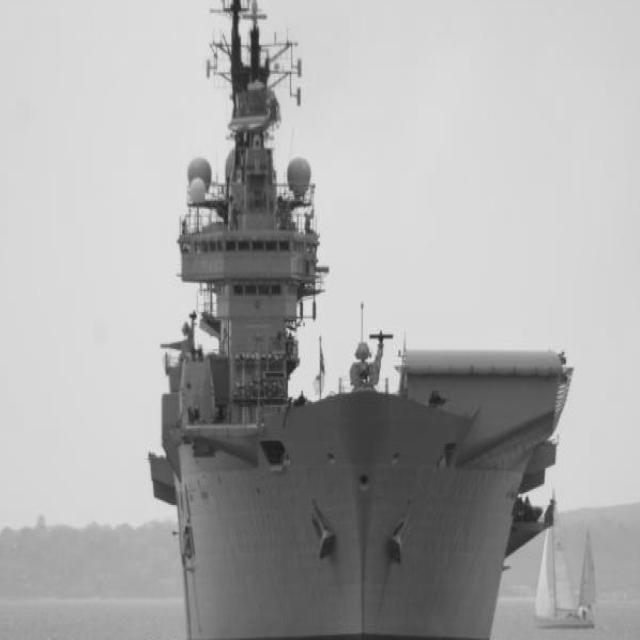Portanaves: (152, 1, 578, 640)
